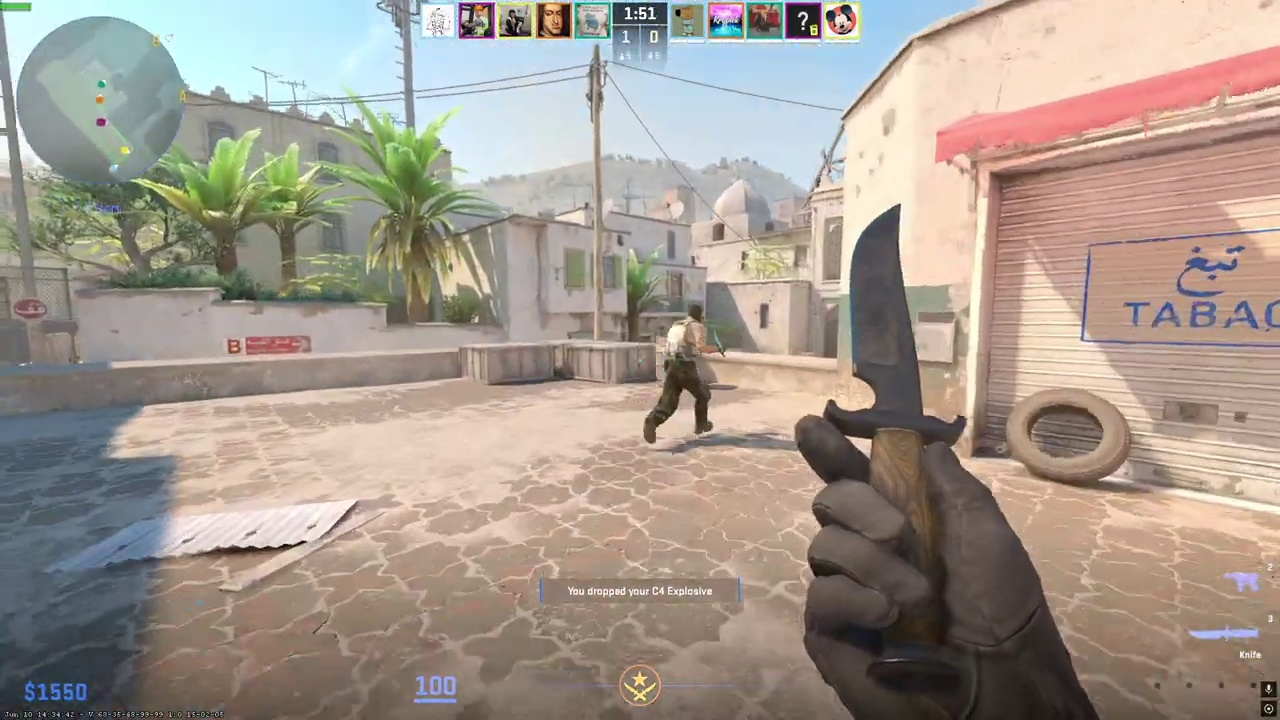Terrorist: (644, 301, 721, 446)
